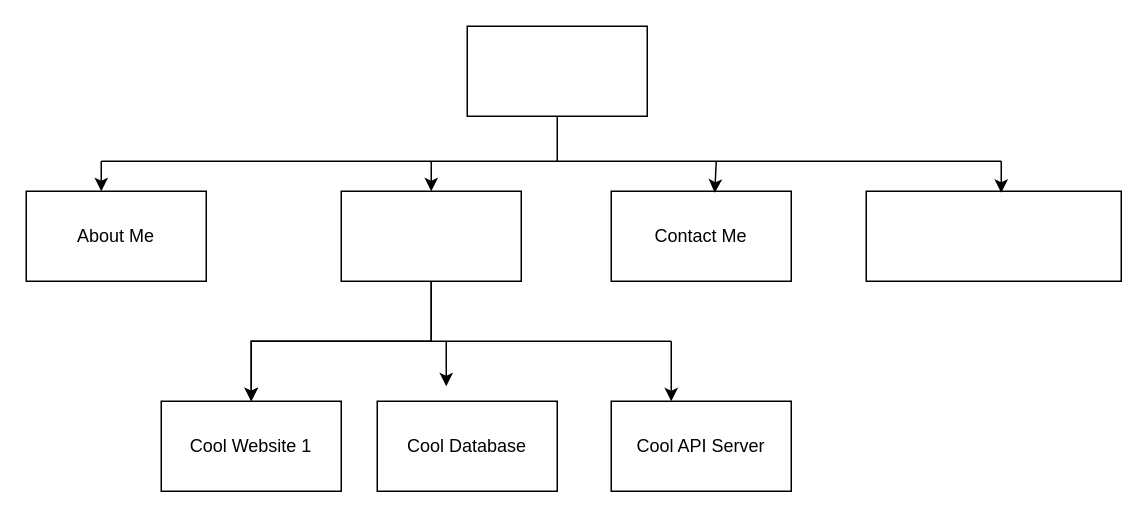
This 1148x518 diagram has some shape labels left out. Here are the shapes that lost their labels. From the top down, the centre of each, then its label:
the point at 556,70: Home
the point at 430,235: Projects
the point at 993,235: Skills/Experience/Education
